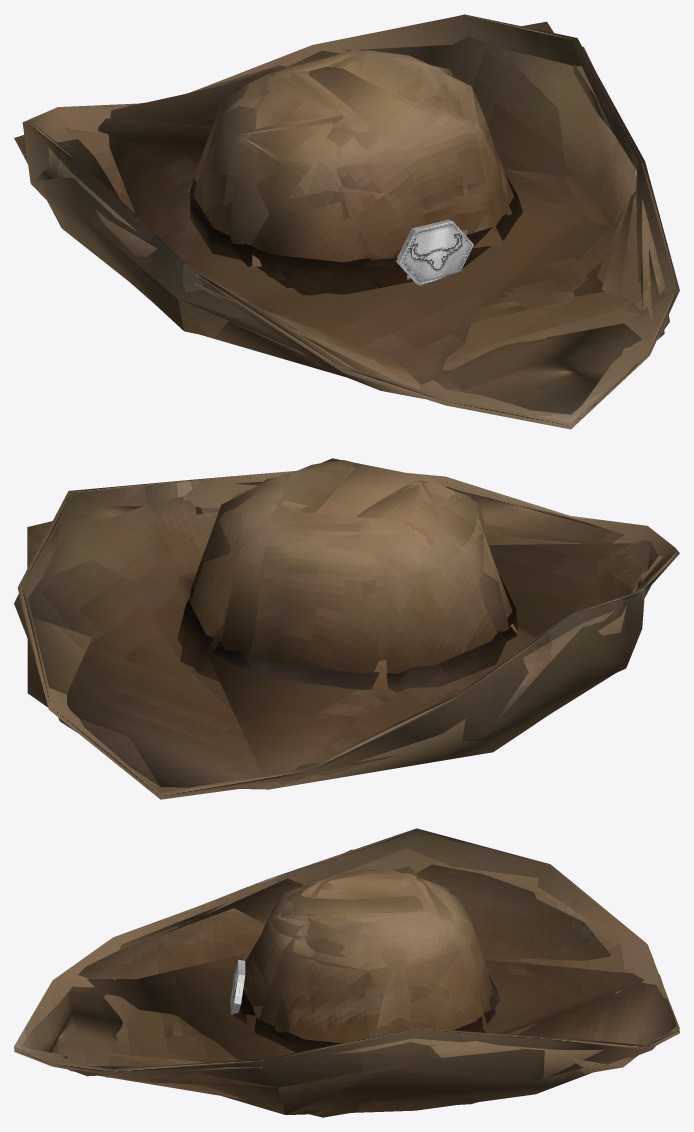
Rendered from lowpoly_cowboy_hat_V2.glb.
3 renders of one model, top to bottom at view 1: azimuth 30°, elevation 25°; view 2: azimuth 150°, elevation 25°; view 3: azimuth 270°, elevation 25°, orthographic. The views are drawn at different scales.
Parts seen in each view (by area): view 1: sm_cowboy_hat1 (×4); view 2: sm_cowboy_hat1 (×4); view 3: sm_cowboy_hat1 (×4).
Part boxes in pixels (box(x1,y1,x2,y2)): sm_cowboy_hat1 (×4): box(14, 14, 679, 429); sm_cowboy_hat1 (×4): box(14, 458, 679, 799); sm_cowboy_hat1 (×4): box(14, 828, 679, 1117).
Size of the model in its own units: 0.35 by 0.1237 by 0.4744.
Materials: 1 (1 with a texture image).
